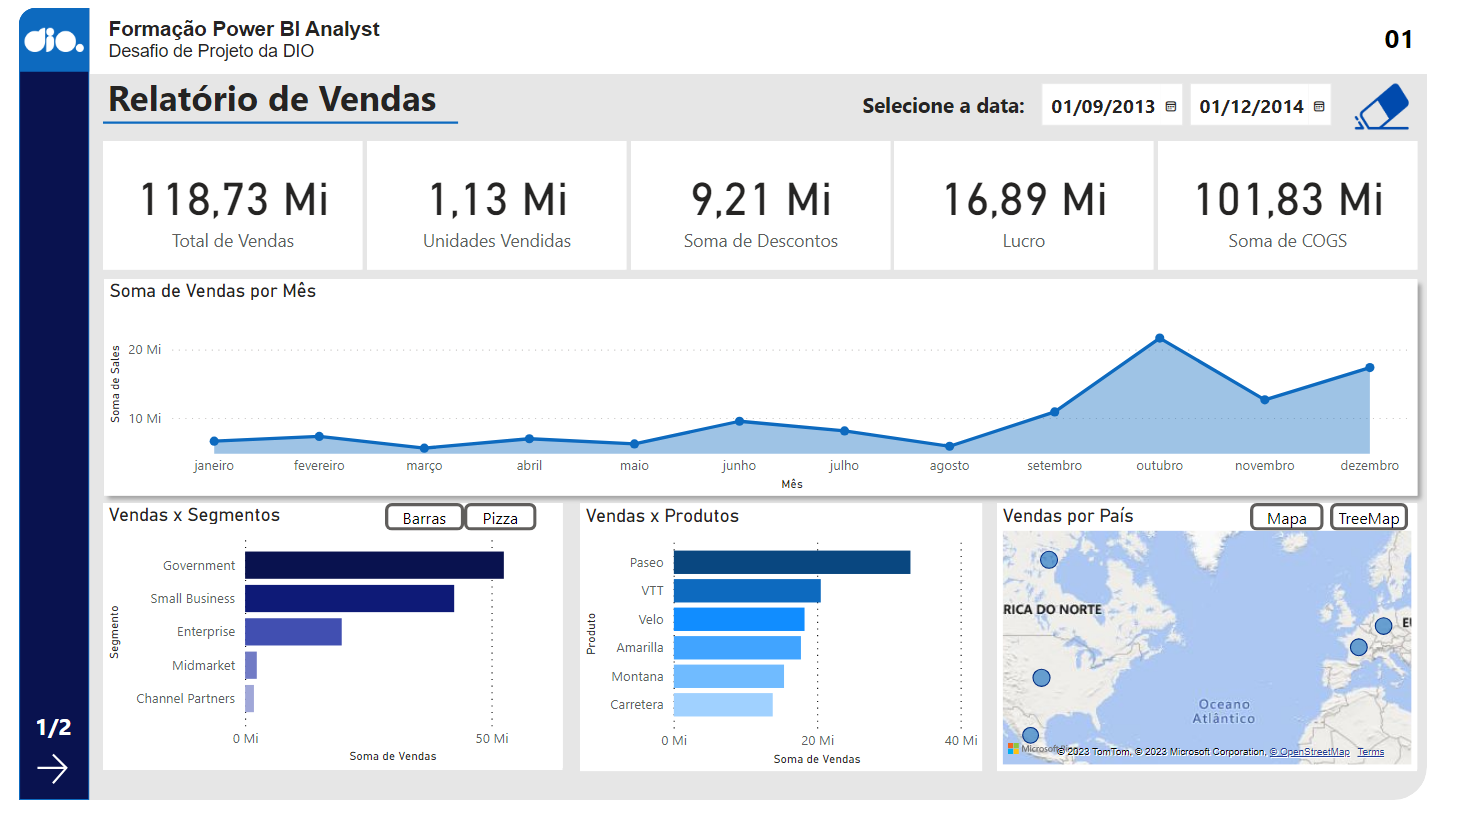

The page's visual inventory and layout, read from the dashboard file:
{"tool":"powerbi","page":{"name":"Página 1","canvas":[1280,720],"ordinal":0},"visuals":[{"type":"shape","box":[0,0,64,58],"z":0,"group":"g4"},{"type":"shape","box":[64.4,0,1215.6,60],"z":0,"group":"g7"},{"type":"slicer","fields":{"Values":["financials.Date"]},"box":[916.7,57.8,288.9,56.7],"z":0,"group":"g2"},{"type":"shape","box":[76.7,86.6,323.3,34.4],"z":0,"group":"g3"},{"type":"shape","box":[76.7,121.1,235.3,116.7],"z":0,"group":"g1"},{"type":"shape","box":[67.8,237.8,1212.2,214.4],"z":0,"group":"g6"},{"type":"shape","box":[510,450,365.6,244.4],"z":0,"group":"g5"},{"type":"shape","box":[888.9,450,382.2,244.4],"z":0,"group":"g8"},{"type":"shape","title":"Fundo cinza","box":[0,0,1280,720],"z":1000},{"type":"image","title":"Logo_dio","box":[0,0,64,58],"z":1000,"group":"g4"},{"type":"textbox","box":[76.6,3.3,306.7,50],"z":1000,"group":"g7"},{"type":"textbox","box":[75.6,53.3,324.4,65.6],"z":1000,"group":"g3"},{"type":"textbox","box":[761.7,64.2,185.3,46.1],"z":1000,"group":"g2"},{"type":"shape","box":[316.5,121.1,235.3,116.7],"z":1000,"group":"g1"},{"type":"areaChart","title":"Soma de  Vendas por Mês","fields":{"Category":["financials.Date.Variation.Hierarquia de datas.Mês"],"Y":["Sum(financials. Sales)"]},"box":[76.7,245.6,1194.4,196.7],"z":1000,"group":"g6"},{"type":"treemap","title":"Vendas por País","fields":{"Group":["financials.Country"],"Values":["Sum(financials. Sales)"]},"box":[889,450,382,242],"z":1000,"group":"g8"},{"type":"clusteredBarChart","title":"Vendas x Produtos","fields":{"Y":["Sum(financials. Sales)"],"Category":["financials.Product"]},"box":[510,451.1,365.6,242.2],"z":1000,"group":"g5"},{"type":"shape","title":"Barra azul - esquerda","box":[0,0,64,720],"z":2000},{"type":"image","title":"Clean_blue","box":[1205.8,60,65.3,58.9],"z":2000,"group":"g2"},{"type":"shape","box":[556.3,121.1,235.3,116.7],"z":2000,"group":"g1"},{"type":"map","title":"Vendas por País","fields":{"Size":["Sum(financials. Sales)"],"Category":["financials.Country"]},"box":[888.9,451.1,382.2,242.2],"z":2000,"group":"g8"},{"type":"shape","box":[76.7,450,417.8,243.3],"z":2250,"group":"g9"},{"type":"actionButton","title":"Botão - treemap","box":[1192,450,71,25],"z":2500,"group":"g8"},{"type":"pieChart","title":"Vendas x Segmento","fields":{"Y":["Sum(financials. Sales)"],"Category":["financials.Segment"]},"box":[77.1,450,417.4,239.7],"z":2750,"group":"g9"},{"type":"clusteredBarChart","title":"Vendas x Segmentos","fields":{"Y":["Sum(financials. Sales)"],"Category":["financials.Segment"]},"box":[76.7,450.2,417.5,240.9],"z":2875,"group":"g9"},{"type":"actionButton","box":[1205.8,64.5,65.3,54.4],"z":3000,"group":"g2"},{"type":"group","id":"g1","title":"Cartões","box":[76.7,121.1,1194.4,116.7],"z":3000},{"type":"shape","box":[796.1,121.1,235.3,116.7],"z":3000,"group":"g1"},{"type":"actionButton","title":"Botão - barras","box":[333.1,450,71.6,25.2],"z":3000,"group":"g9"},{"type":"actionButton","title":"Botão -  mapa","box":[1119,450,67,25],"z":3000,"group":"g8"},{"type":"actionButton","title":"Botão - rosca","box":[404.7,450,66.2,25.2],"z":3500,"group":"g9"},{"type":"group","id":"g2","title":"Filtro por Datas","box":[761.7,57.8,509.4,61.1],"z":4000},{"type":"shape","box":[1035.9,121.1,235.3,116.7],"z":4000,"group":"g1"},{"type":"card","fields":{"Values":["Sum(financials.Profit)"]},"box":[795.6,121.1,235.6,116.7],"z":5000,"group":"g1"},{"type":"card","fields":{"Values":["Sum(financials.COGS)"]},"box":[1035.6,121.1,235.6,116.7],"z":6000,"group":"g1"},{"type":"group","id":"g3","title":"Titulo do relatório","box":[75.6,53.3,324.4,67.8],"z":7000},{"type":"card","fields":{"Values":["Sum(financials. Sales)"]},"box":[76.7,121.1,235.6,116.7],"z":7000,"group":"g1"},{"type":"group","id":"g4","title":"Logo","box":[0,0,64,58],"z":8000},{"type":"card","fields":{"Values":["Sum(financials.Units Sold)"]},"box":[316.7,121.1,235.6,116.7],"z":8000,"group":"g1"},{"type":"card","fields":{"Values":["Sum(financials.Discounts)"]},"box":[556.7,121.1,235.6,116.7],"z":9000,"group":"g1"},{"type":"group","id":"g5","title":"Vendas x Produtos","box":[510,450,365.6,244.4],"z":9000},{"type":"group","id":"g6","title":"Vendas por Mês","box":[67.8,237.8,1212.2,214.4],"z":10000},{"type":"group","id":"g7","title":"Banner desafio","box":[64.4,0,1215.6,60],"z":11000},{"type":"group","id":"g8","title":"Vendas x  País","box":[888.9,450,382.2,244.4],"z":11750},{"type":"group","id":"g9","title":"Vendas x Segmento","box":[76.7,450,417.8,243.3],"z":12500},{"type":"actionButton","box":[11,673,41,38],"z":13000}]}

Visuals, with their boxes in screenshot pixels (x1, y1, x2, y2), scaled from the page's 1280x720 canvas onto the 1465x817 screenshot:
shape: bbox(0, 0, 73, 66)
shape: bbox(74, 0, 1464, 68)
slicer - financials.Date: bbox(1049, 66, 1380, 130)
shape: bbox(88, 98, 458, 137)
shape: bbox(88, 137, 357, 270)
shape: bbox(78, 270, 1464, 513)
shape: bbox(584, 511, 1002, 788)
shape: bbox(1017, 511, 1455, 788)
"Fundo cinza" shape: bbox(0, 0, 1464, 816)
"Logo_dio" image: bbox(0, 0, 73, 66)
textbox: bbox(88, 4, 439, 60)
textbox: bbox(87, 60, 458, 135)
textbox: bbox(872, 73, 1084, 125)
shape: bbox(362, 137, 632, 270)
"Soma de  Vendas por Mês" areaChart: bbox(88, 279, 1455, 502)
"Vendas por País" treemap: bbox(1017, 511, 1455, 785)
"Vendas x Produtos" clusteredBarChart: bbox(584, 512, 1002, 787)
"Barra azul - esquerda" shape: bbox(0, 0, 73, 816)
"Clean_blue" image: bbox(1380, 68, 1455, 135)
shape: bbox(637, 137, 906, 270)
"Vendas por País" map: bbox(1017, 512, 1455, 787)
shape: bbox(88, 511, 566, 787)
"Botão - treemap" actionButton: bbox(1364, 511, 1446, 539)
"Vendas x Segmento" pieChart: bbox(88, 511, 566, 783)
"Vendas x Segmentos" clusteredBarChart: bbox(88, 511, 566, 784)
actionButton: bbox(1380, 73, 1455, 135)
"Cartões" group: bbox(88, 137, 1455, 270)
shape: bbox(911, 137, 1180, 270)
"Botão - barras" actionButton: bbox(381, 511, 463, 539)
"Botão -  mapa" actionButton: bbox(1281, 511, 1357, 539)
"Botão - rosca" actionButton: bbox(463, 511, 539, 539)
"Filtro por Datas" group: bbox(872, 66, 1455, 135)
shape: bbox(1186, 137, 1455, 270)
card - Sum(financials.Profit): bbox(911, 137, 1180, 270)
card - Sum(financials.COGS): bbox(1185, 137, 1455, 270)
"Titulo do relatório" group: bbox(87, 60, 458, 137)
card - Sum(financials. Sales): bbox(88, 137, 357, 270)
"Logo" group: bbox(0, 0, 73, 66)
card - Sum(financials.Units Sold): bbox(362, 137, 632, 270)
card - Sum(financials.Discounts): bbox(637, 137, 907, 270)
"Vendas x Produtos" group: bbox(584, 511, 1002, 788)
"Vendas por Mês" group: bbox(78, 270, 1464, 513)
"Banner desafio" group: bbox(74, 0, 1464, 68)
"Vendas x  País" group: bbox(1017, 511, 1455, 788)
"Vendas x Segmento" group: bbox(88, 511, 566, 787)
actionButton: bbox(13, 764, 60, 807)
